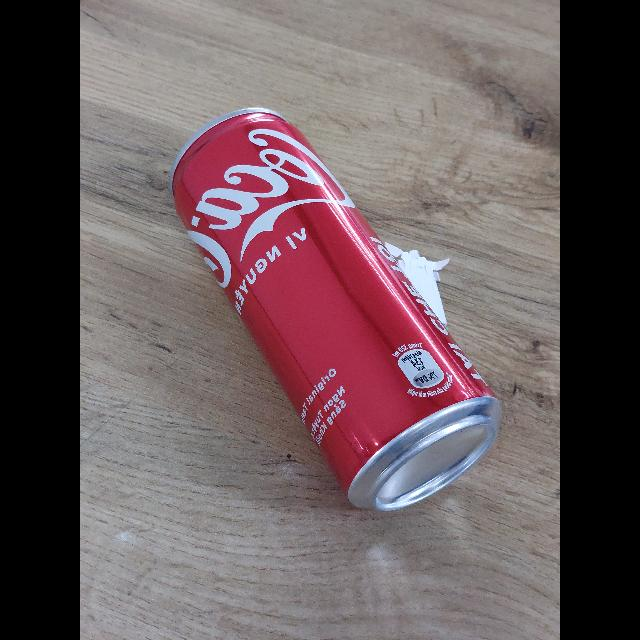coca_cola: (171, 108, 503, 514)
